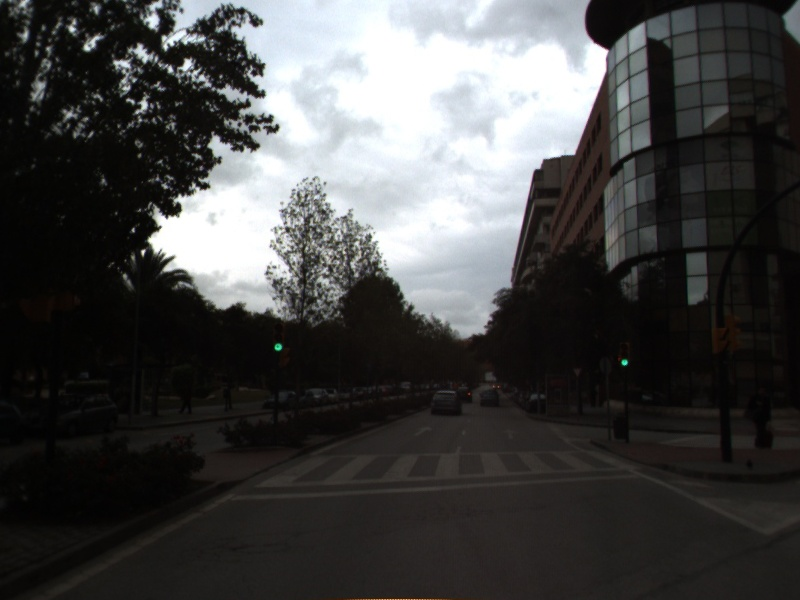STRAIGHT: (411, 424, 435, 438), (501, 427, 520, 441)
